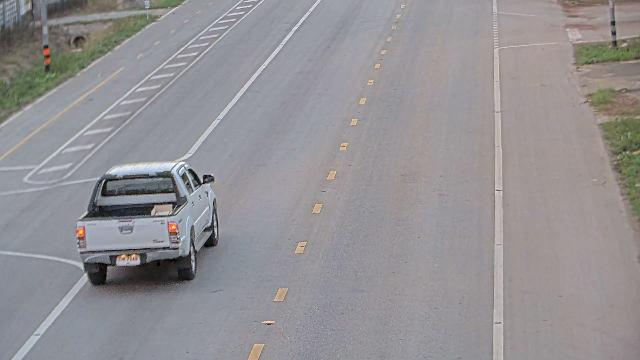pickup-truck: (75, 160, 219, 285)
